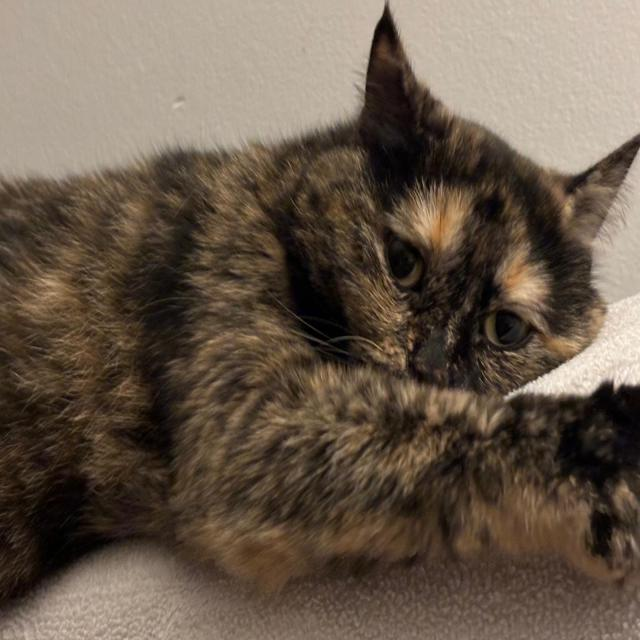authorized: (0, 0, 639, 607)
